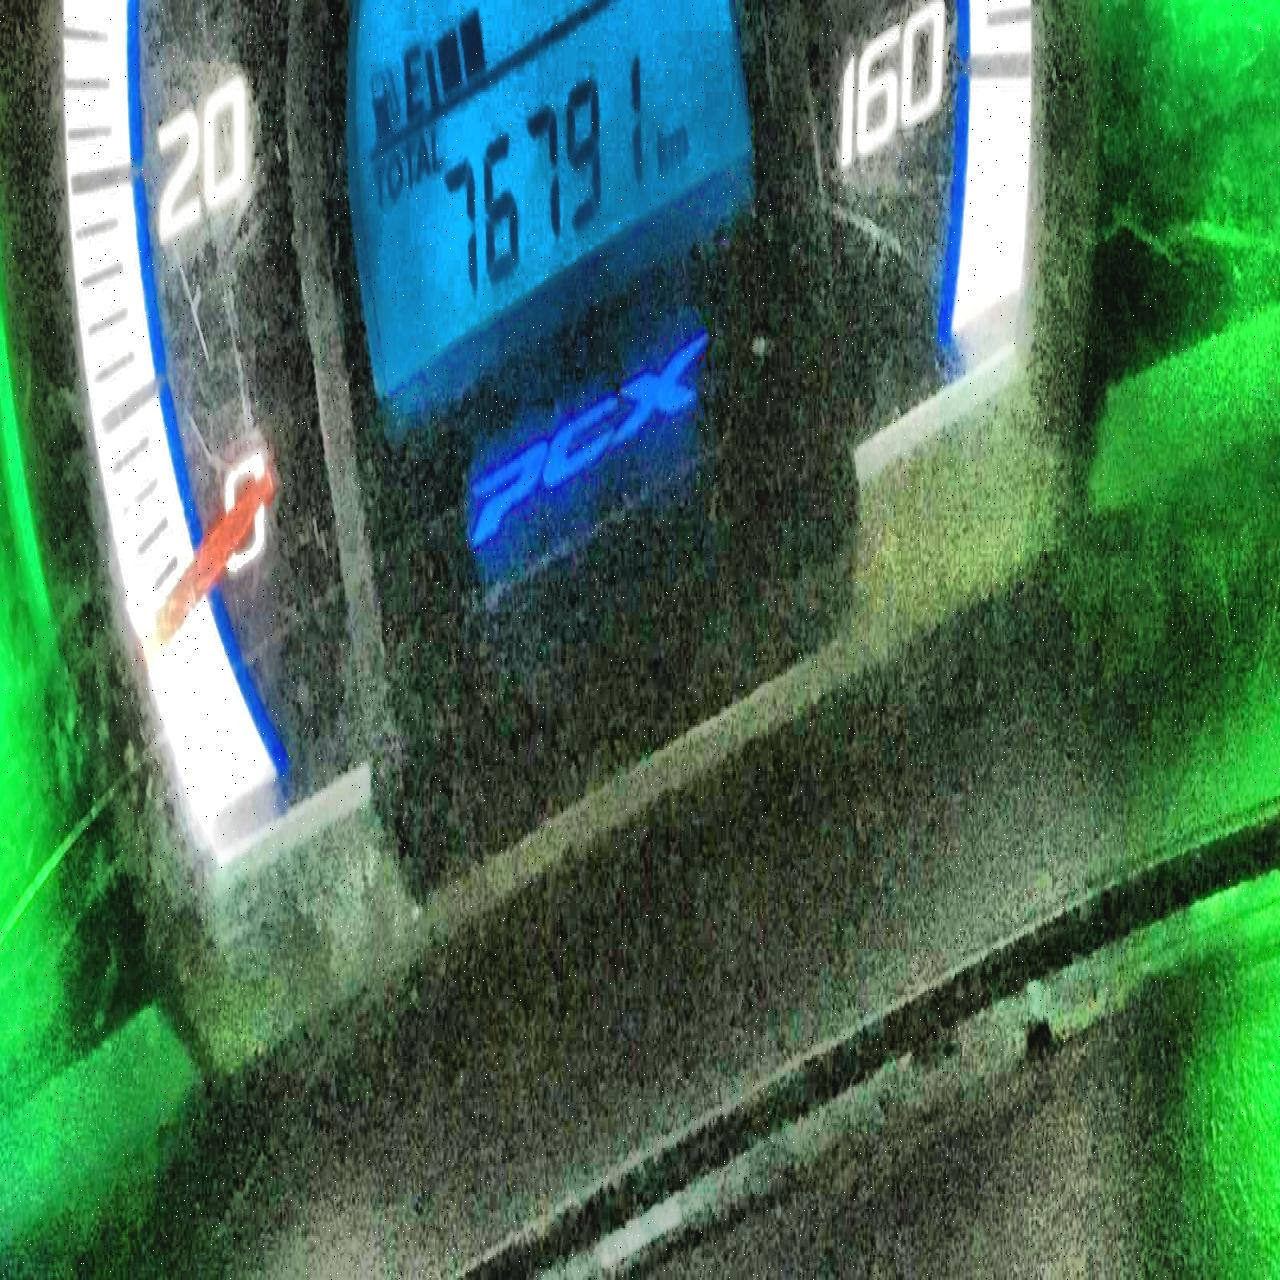1: (624, 48, 646, 188)
6: (483, 128, 520, 291)
7: (526, 100, 564, 241), (445, 155, 481, 294)
9: (567, 75, 604, 236)
X: (402, 40, 425, 117), (669, 123, 692, 163), (387, 147, 402, 195), (416, 130, 431, 176), (430, 124, 444, 173), (404, 136, 417, 189), (373, 155, 386, 205), (656, 130, 669, 176)
odometer: (339, 0, 754, 406)
